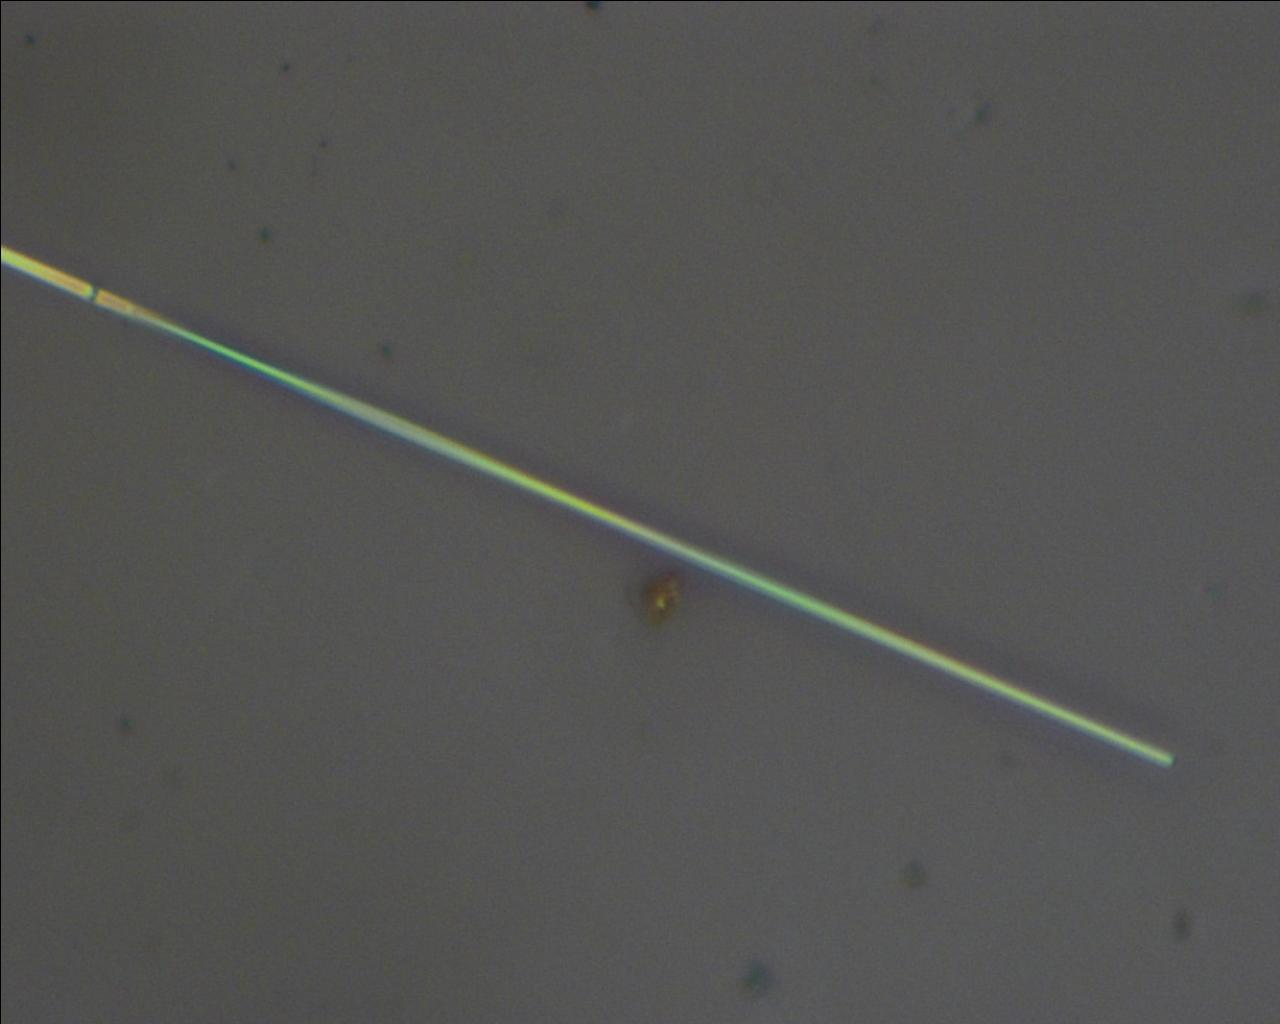fiber: (543, 0, 961, 624), (127, 0, 274, 624), (1182, 624, 1280, 1024)
